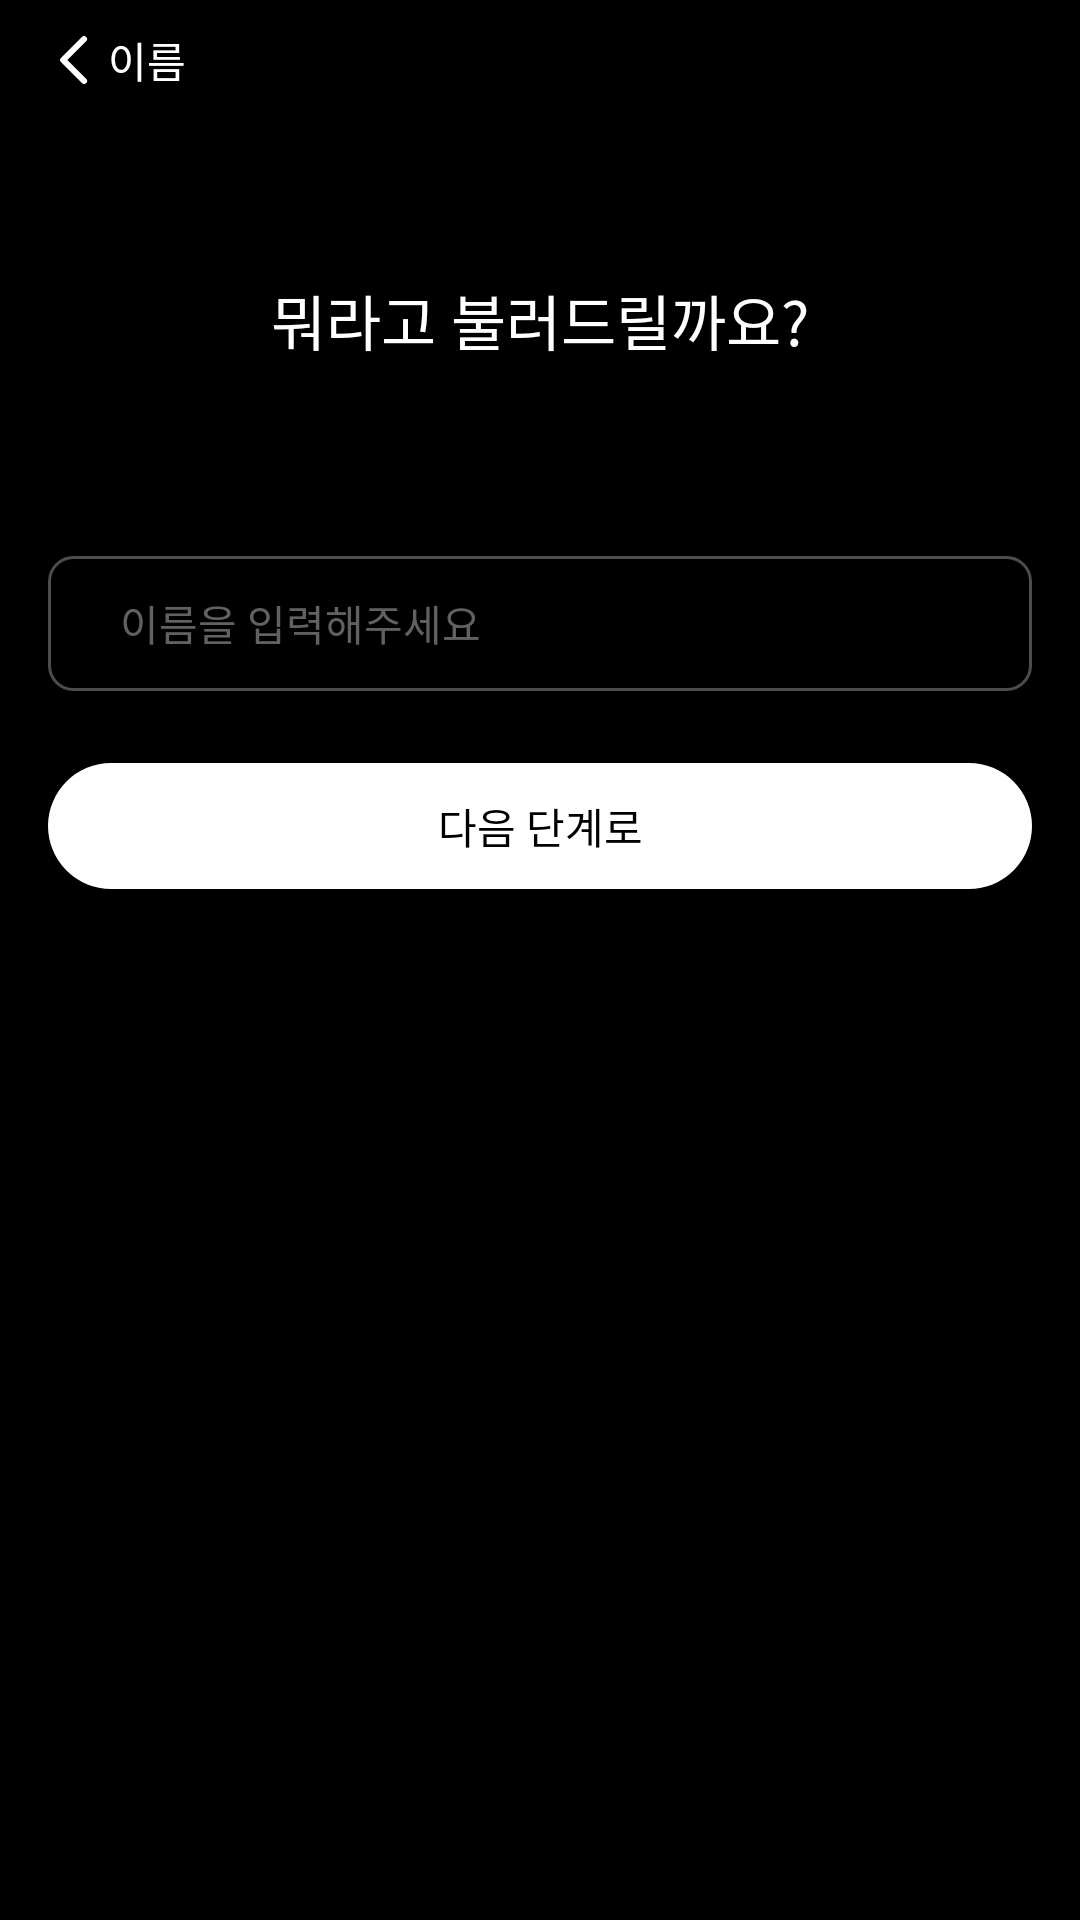

Icons on this 1080x1920 Android screen, each with its box as bbox(x1, y1, x2, y2):
back: bbox(60, 36, 88, 84)
